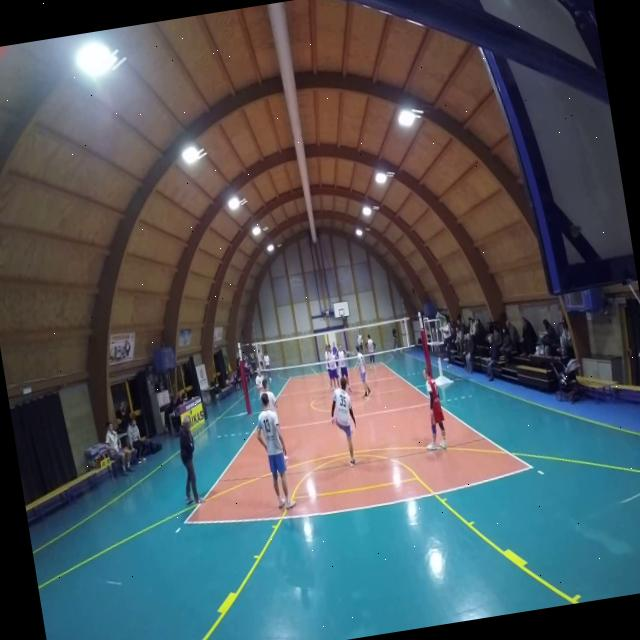serve: (356, 328, 366, 359)
